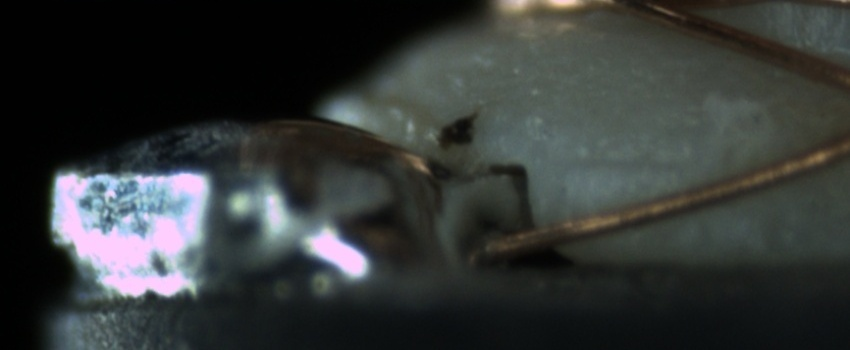DL: (562, 131, 695, 197)
